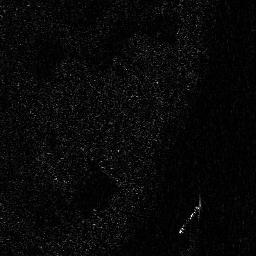ship: (178, 205, 202, 233)
